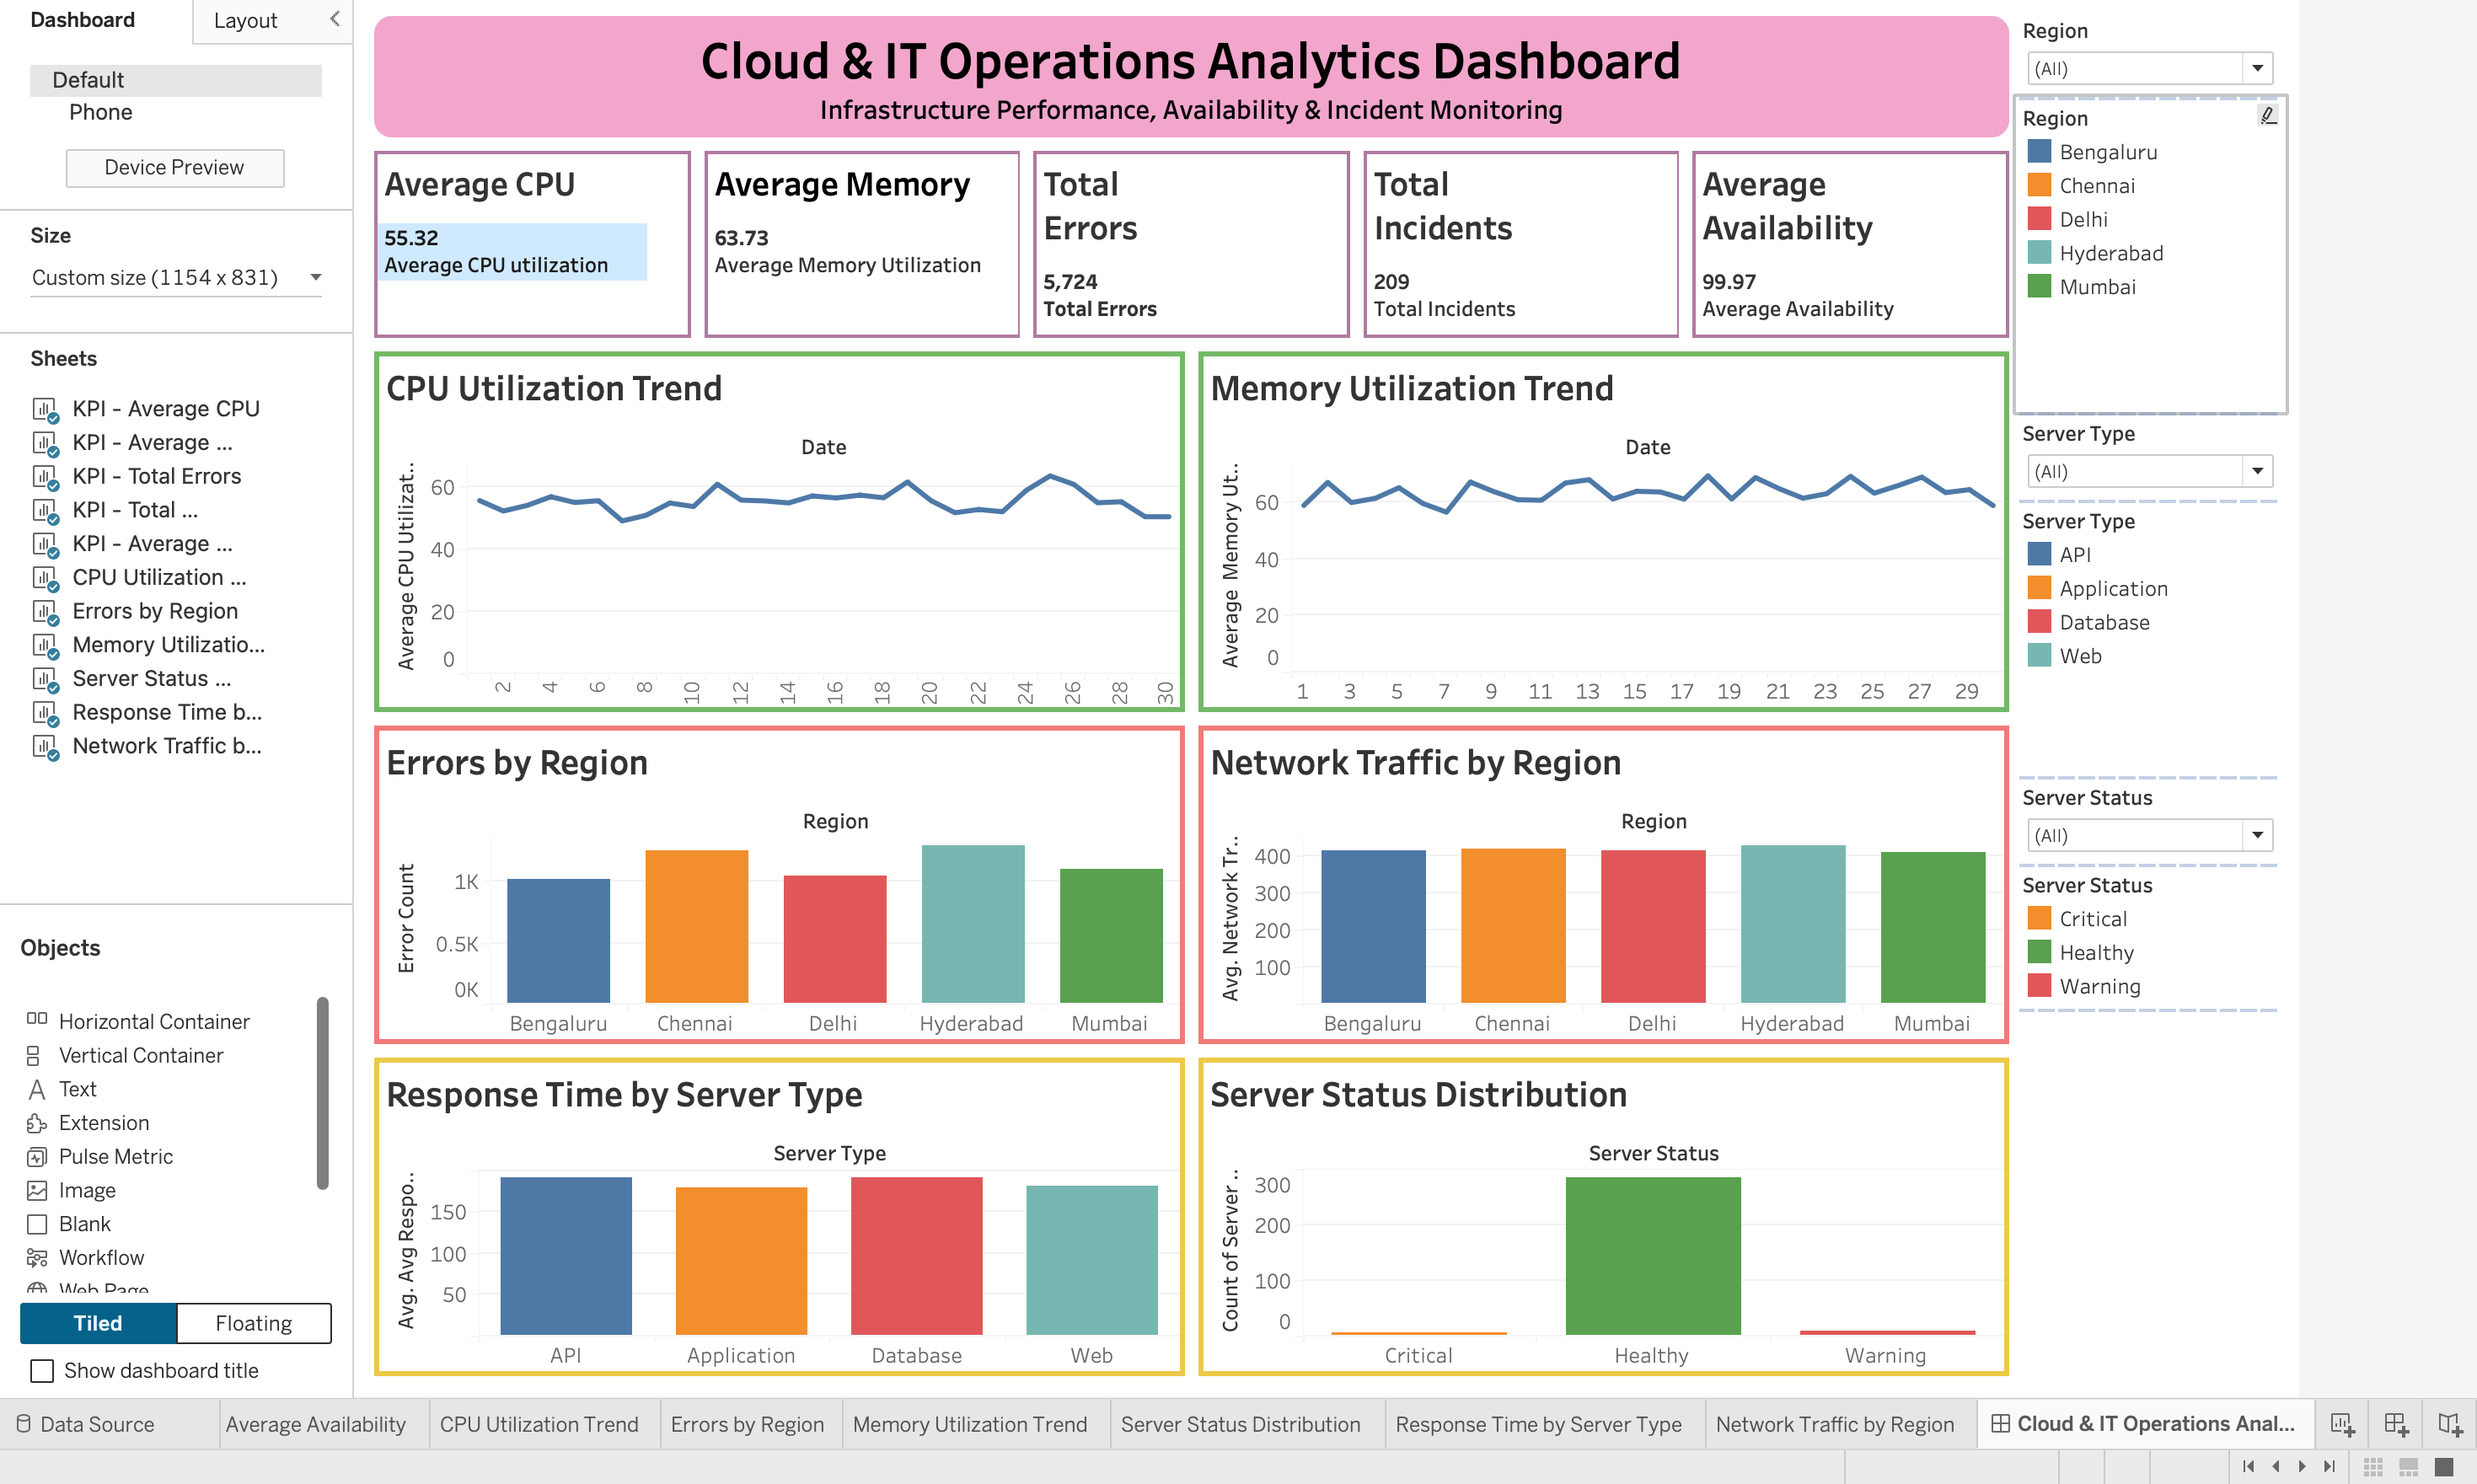

What the dashboard file says about the page in this screenshot:
{"tool":"tableau","page":{"name":"Cloud & IT Operations Analytics Dashboard","canvas":[1154,831],"ordinal":0},"visuals":[{"type":"worksheet","title":"KPI - Average CPU","mark":"Automatic","box":[8,8,195.6,141]},{"type":"worksheet","title":"KPI - Average Memory","mark":"Automatic","box":[203.6,8,195.6,141]},{"type":"worksheet","title":"KPI - Total Errors","mark":"Automatic","box":[399.2,8,195.6,141]},{"type":"worksheet","title":"KPI - Total Incidents","mark":"Automatic","box":[594.8,8,195.6,141]},{"type":"worksheet","title":"KPI - Average Availability","mark":"Automatic","box":[790.4,8,195.6,141]},{"type":"legend","title":"Network Traffic by Region","param":"[federated.1b2pd4h0vjss8k1f0wbpg12h6hw7].[none:Region:nk]","box":[986,8,160,272]},{"type":"worksheet","title":"CPU Utilization Trend","mark":"Line","rows":["CPU_Utilization_Pct"],"cols":["Date"],"box":[8,149,488.9,244.5]},{"type":"worksheet","title":"Memory Utilization Trend","mark":"Line","rows":["Memory_Utilization_Pct"],"cols":["Date"],"box":[496.9,149,489.1,238]},{"type":"legend","title":"Response Time by Server Type","param":"[federated.1b2pd4h0vjss8k1f0wbpg12h6hw7].[none:Server_Type:nk]","box":[986,280,160,272]},{"type":"worksheet","title":"Network Traffic by Region","mark":"Bar","rows":["Network_Traffic_MBps"],"cols":["Region"],"box":[496.9,391.5,489.1,215.7]},{"type":"worksheet","title":"Errors by Region","mark":"Bar","rows":["Error_Count"],"cols":["Region"],"box":[8,393.5,488.9,214.7]},{"type":"legend","title":"Server Status Distribution","param":"[federated.1b2pd4h0vjss8k1f0wbpg12h6hw7].[none:Server_Status:nk]","box":[986,552,160,271]},{"type":"worksheet","title":"Server Status Distribution","mark":"Bar","rows":["Server_ID"],"cols":["Server_Status"],"box":[496.9,607.3,489.1,215.7]},{"type":"worksheet","title":"Response Time by Server Type","mark":"Bar","rows":["Avg_Response_Time_ms"],"cols":["Server_Type"],"box":[8,608.3,488.9,214.7]}]}

Visuals, with their boxes on the page's 1154x831 design canvas (x1, y1, x2, y2). These are canvas units, not pixel positions in the 2477x1484 screenshot, which may show the page scaled, cropped or inside an application window:
"KPI - Average CPU" worksheet: <box>8,8,204,149</box>
"KPI - Average Memory" worksheet: <box>204,8,399,149</box>
"KPI - Total Errors" worksheet: <box>399,8,595,149</box>
"KPI - Total Incidents" worksheet: <box>595,8,790,149</box>
"KPI - Average Availability" worksheet: <box>790,8,986,149</box>
"Network Traffic by Region" legend: <box>986,8,1146,280</box>
"CPU Utilization Trend" worksheet (Line marks): <box>8,149,497,394</box>
"Memory Utilization Trend" worksheet (Line marks): <box>497,149,986,387</box>
"Response Time by Server Type" legend: <box>986,280,1146,552</box>
"Network Traffic by Region" worksheet (Bar marks): <box>497,392,986,607</box>
"Errors by Region" worksheet (Bar marks): <box>8,394,497,608</box>
"Server Status Distribution" legend: <box>986,552,1146,823</box>
"Server Status Distribution" worksheet (Bar marks): <box>497,607,986,823</box>
"Response Time by Server Type" worksheet (Bar marks): <box>8,608,497,823</box>
